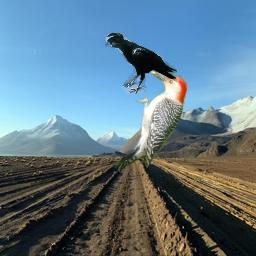Crow: (105, 32, 177, 94)
Woodpecker: (111, 66, 187, 175)
